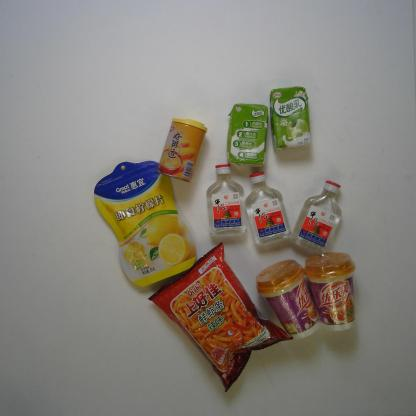Alcohol: (289, 178, 344, 254), (245, 172, 292, 246), (206, 163, 247, 237)
Canned Food: (156, 116, 210, 183)
Dried Fruit: (92, 158, 196, 290)
Instant Drink: (254, 258, 321, 342), (303, 252, 358, 333)
Milk: (268, 85, 312, 152), (225, 102, 269, 169)
Puffed Food: (148, 239, 295, 395)
